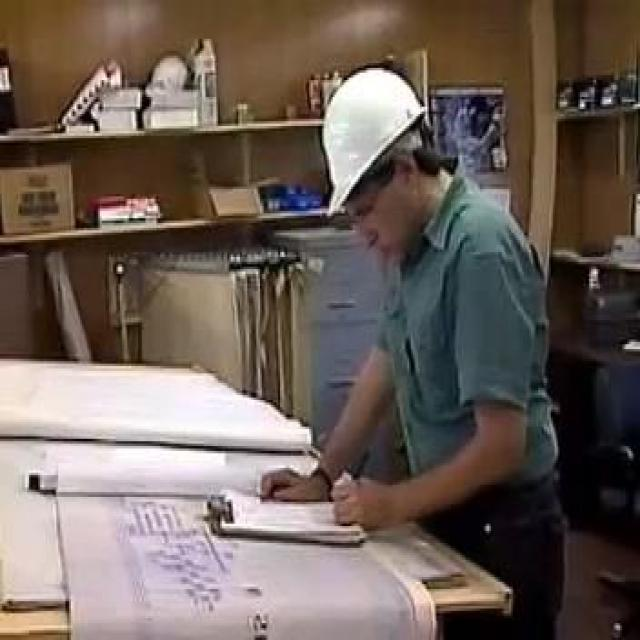safety_helmet: (303, 53, 440, 215)
